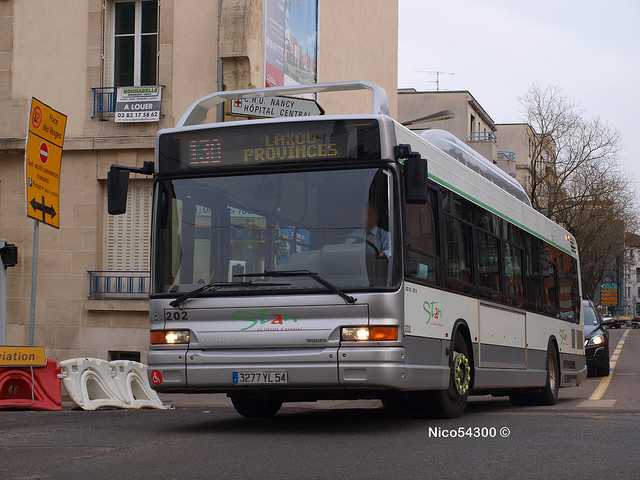Bus: (153, 76, 589, 415)
